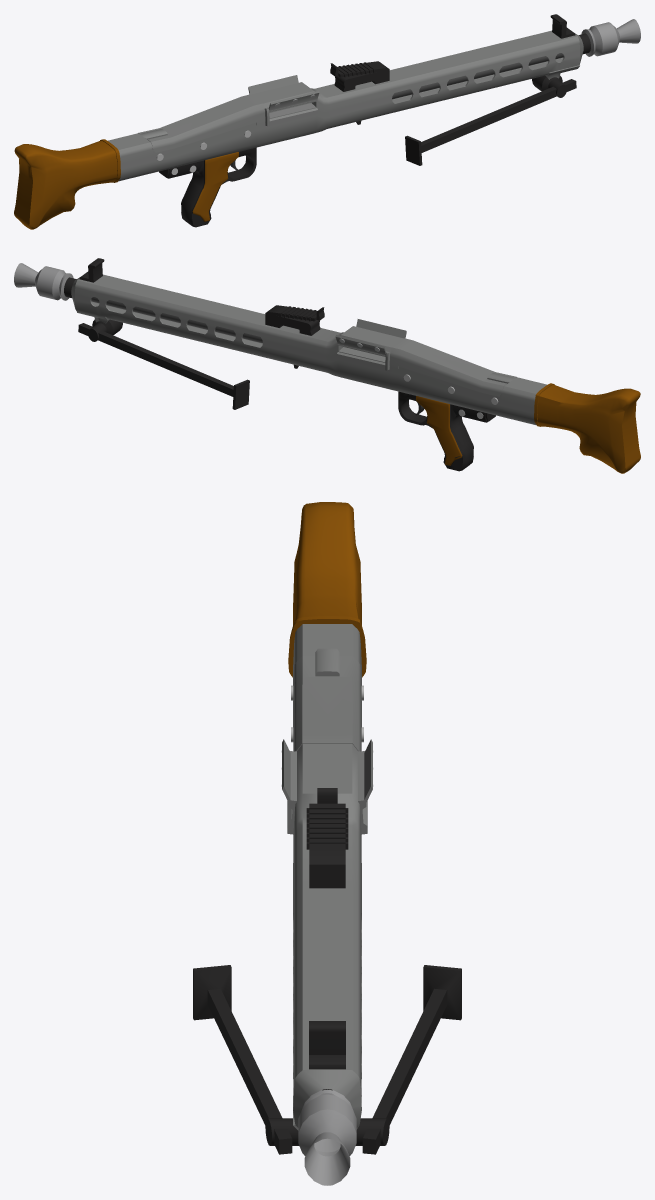
3 renders of one model, top to bottom at view 1: azimuth 30°, elevation 25°; view 2: azimuth 150°, elevation 25°; view 3: azimuth 270°, elevation 25°, orthographic. The views are drawn at different scales.
Visible parts, largest first — view 1: MG42; view 2: MG42; view 3: MG42.
Part boxes in pixels (x1,y1,x2,y2): MG42: [14, 14, 640, 229]; MG42: [14, 258, 640, 473]; MG42: [193, 502, 461, 1185].
Size of the model in its own units: 0.7659 by 0.1468 by 0.1449.
